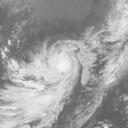cyclone: (40, 40, 87, 91)
